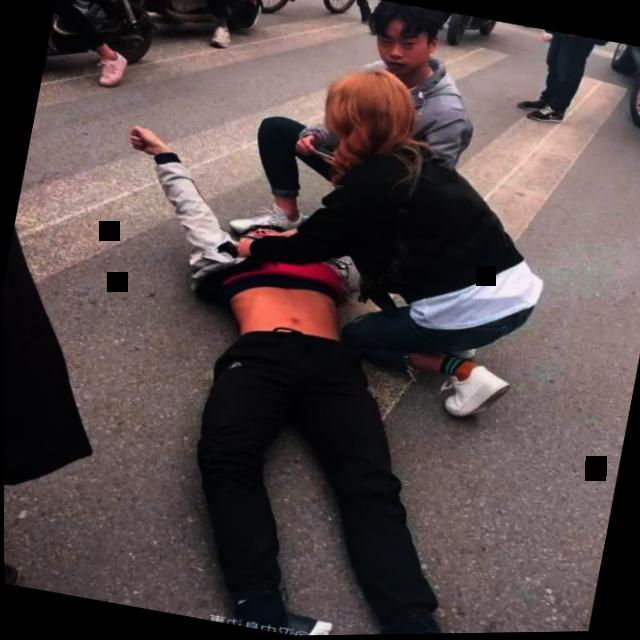Fall-Detected: (13, 76, 637, 640)
